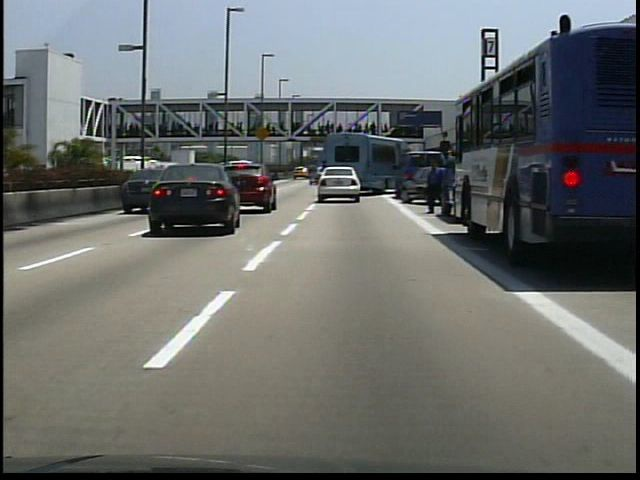person: (425, 158, 446, 218)
